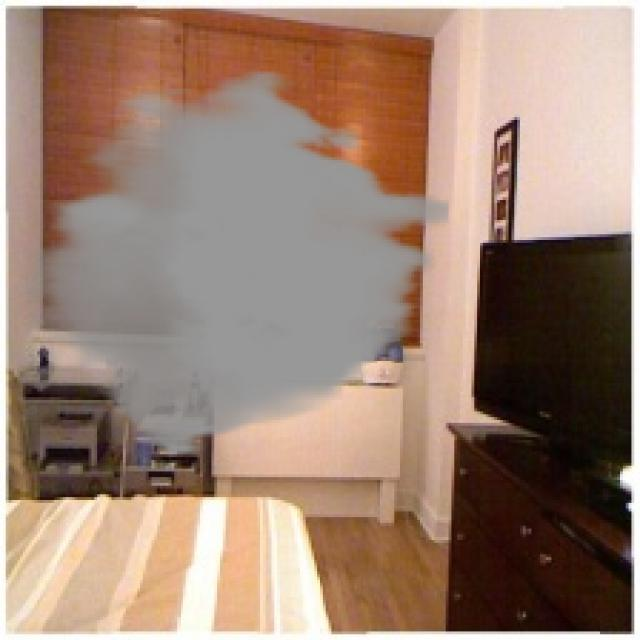Smoke: (26, 69, 448, 458)
